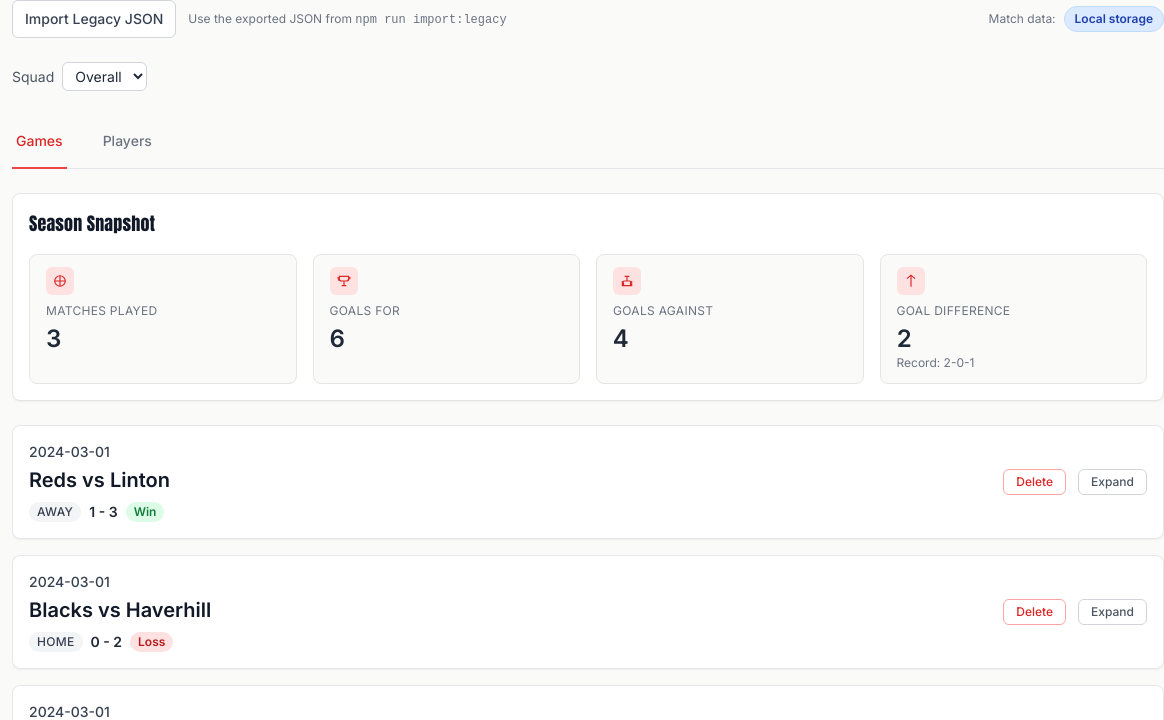
Test: SeasonStatsView › squads › filters games and totals by squad, with Overall showing everything
Expected: the text "Reds vs Linton" is shown, [29, 466, 170, 494]
Expected: the text "Blacks vs Haverhill" is shown, [29, 596, 211, 624]
Select "Blacks" in the dropdown labelled "Squad" at (105, 76), box [62, 62, 147, 91]
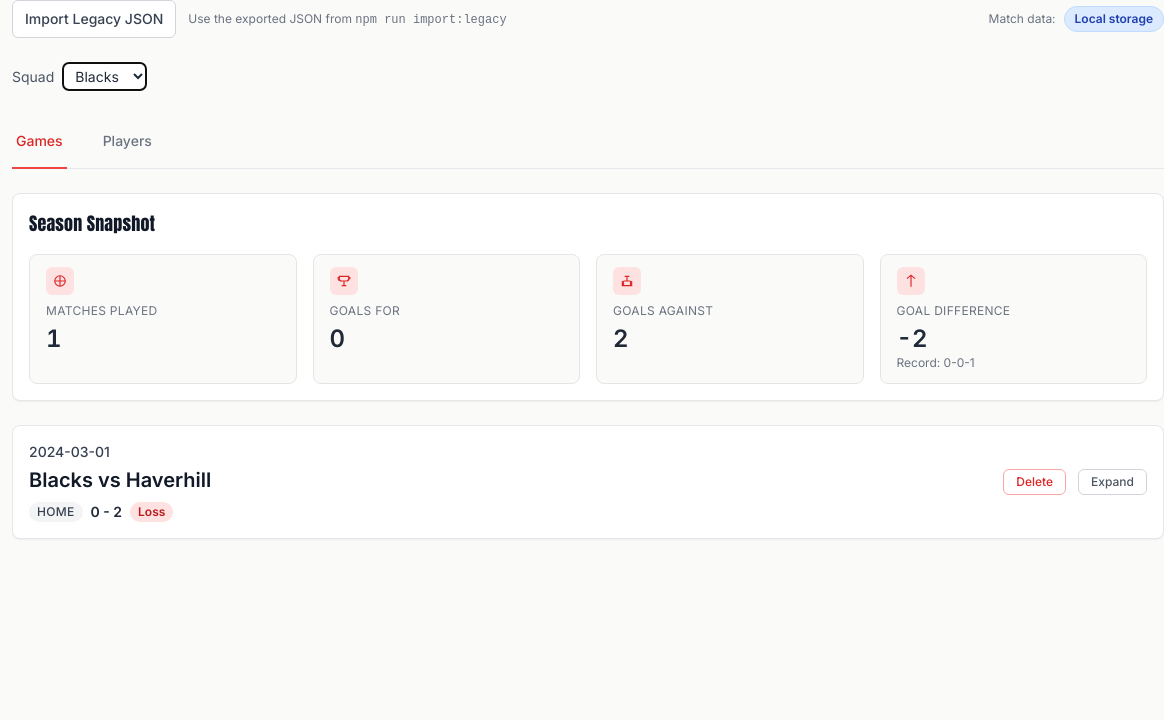
Expected: the text "Blacks vs Haverhill" is shown, [29, 466, 211, 494]
Expected: the text "Reds vs Linton" is gone
